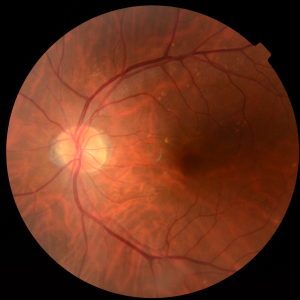retina_disease: (34, 93, 226, 206)
